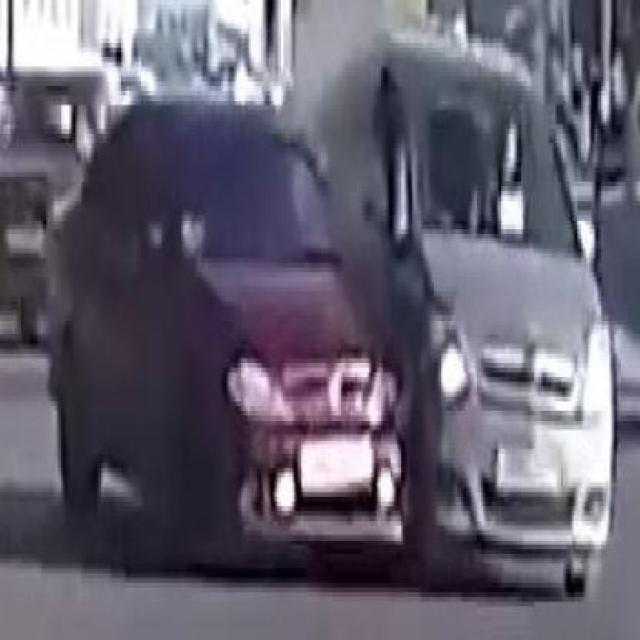accident: (60, 28, 608, 569)
